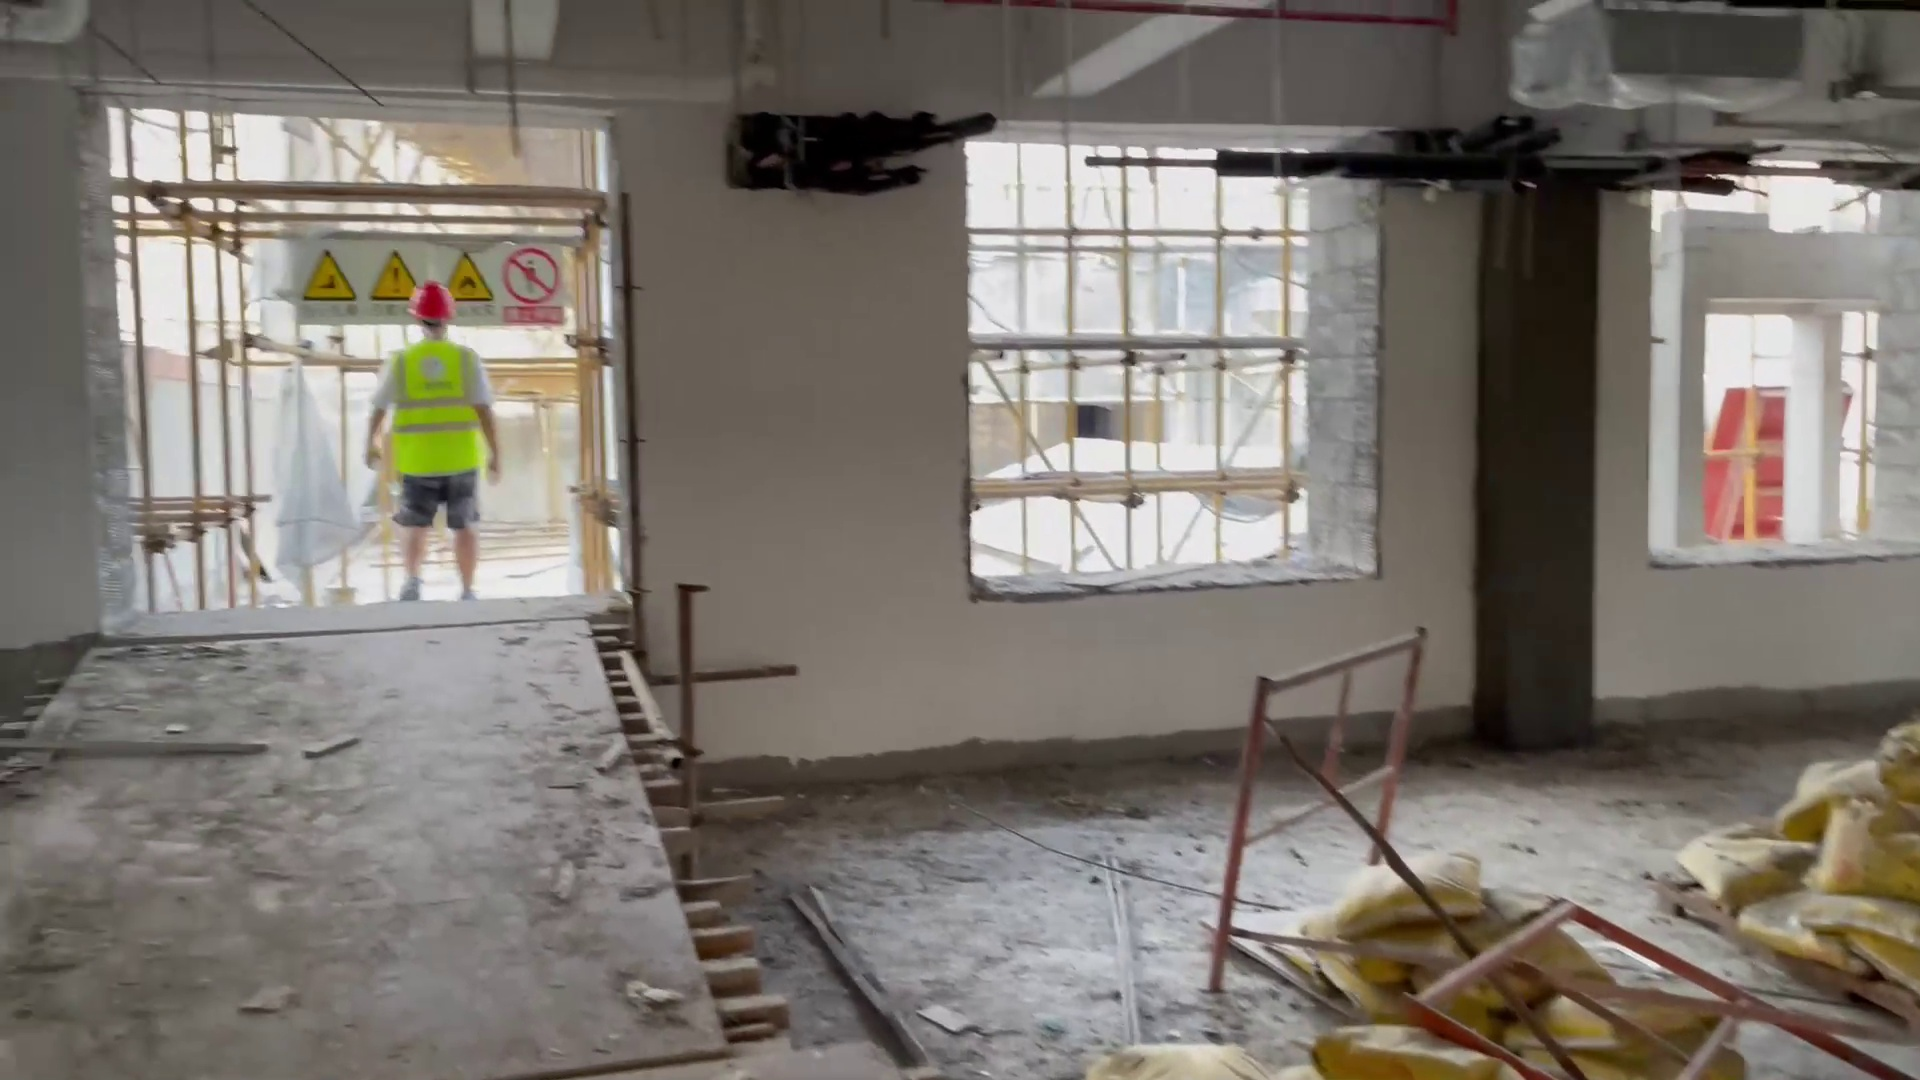helmet: (409, 280, 459, 324)
person: (364, 295, 500, 606)
vest: (389, 334, 487, 486)
